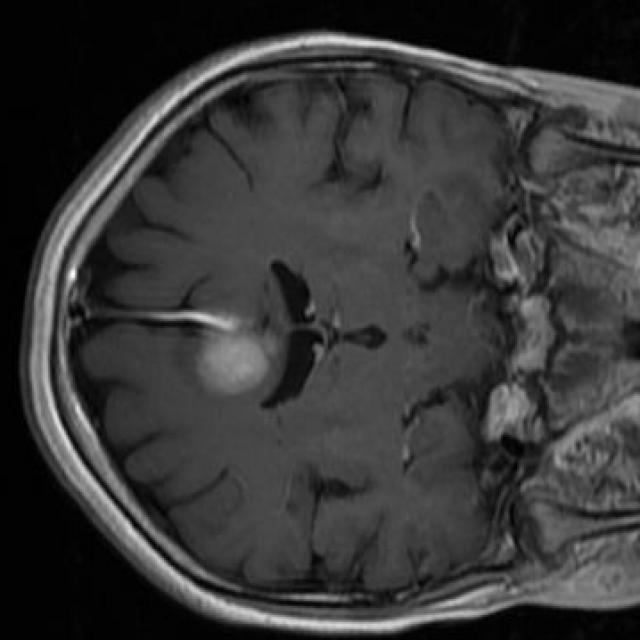meningioma: (198, 337, 271, 398)
